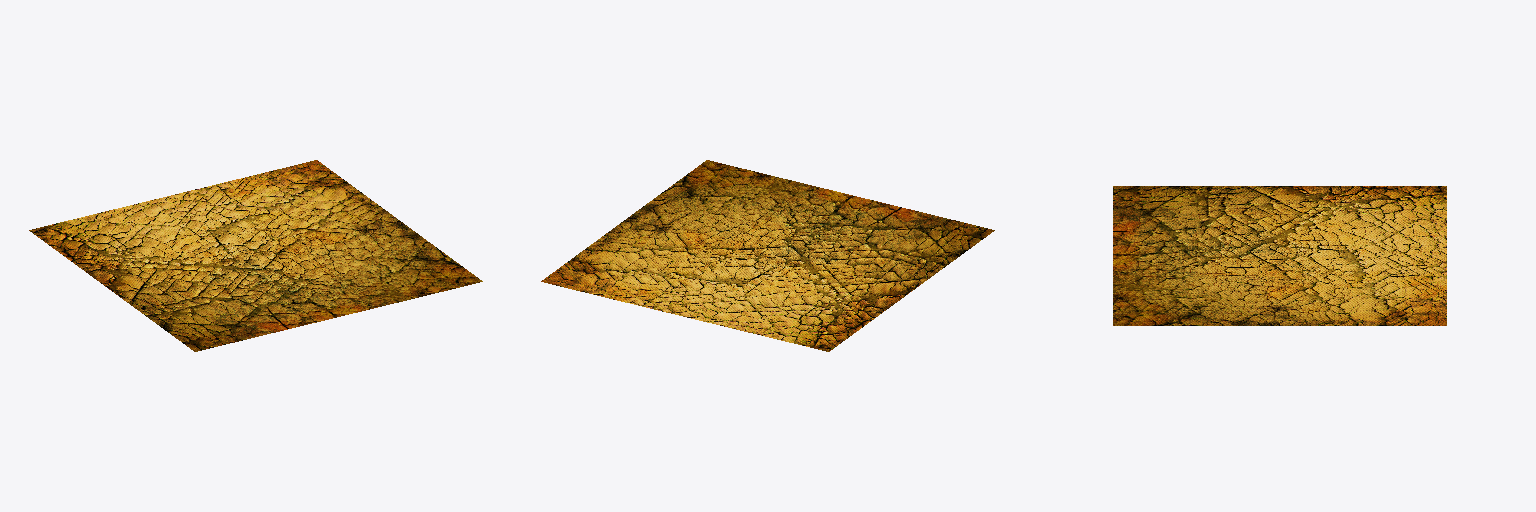
The picture shows the model from 3 angles: view 1: azimuth 30°, elevation 25°; view 2: azimuth 150°, elevation 25°; view 3: azimuth 270°, elevation 25°; orthographic projection.
Visible parts, largest first — view 1: Plane_Plane.002; view 2: Plane_Plane.002; view 3: Plane_Plane.002.
Part boxes in pixels (left/top/right/bottom): Plane_Plane.002: left=29, top=160, right=482, bottom=351; Plane_Plane.002: left=541, top=160, right=994, bottom=351; Plane_Plane.002: left=1113, top=186, right=1446, bottom=325.
Bounding box in the file's own units: 40 × 0 × 40.
Materials: 1 (1 with a texture image).